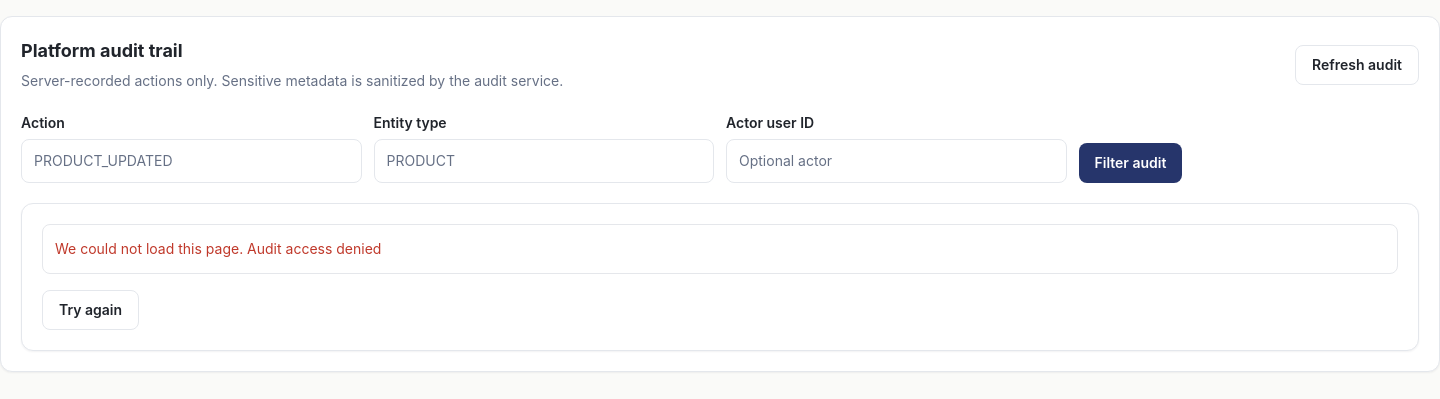
it: platform audit explorer › shows recoverable errors without leaking previous event rows
The image size is (1440, 399).
Expected: the text "We could not load this page. Audit access denied" is shown, [42,224,1398,274]
Click the button "Try again" at (91, 310), box [42,290,139,330]
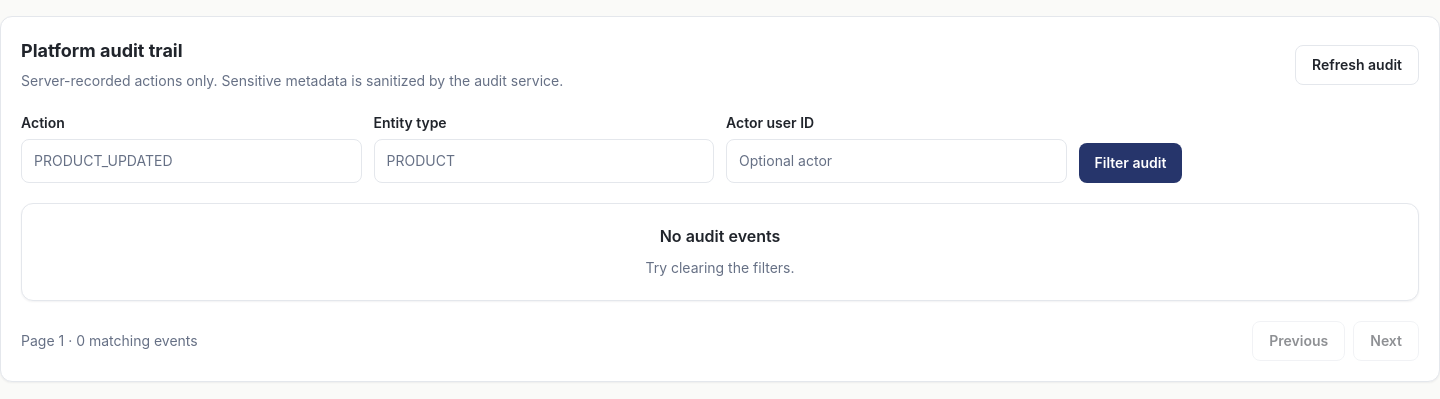
Now the heading "No audit events" is shown, box [660,226,780,246]
